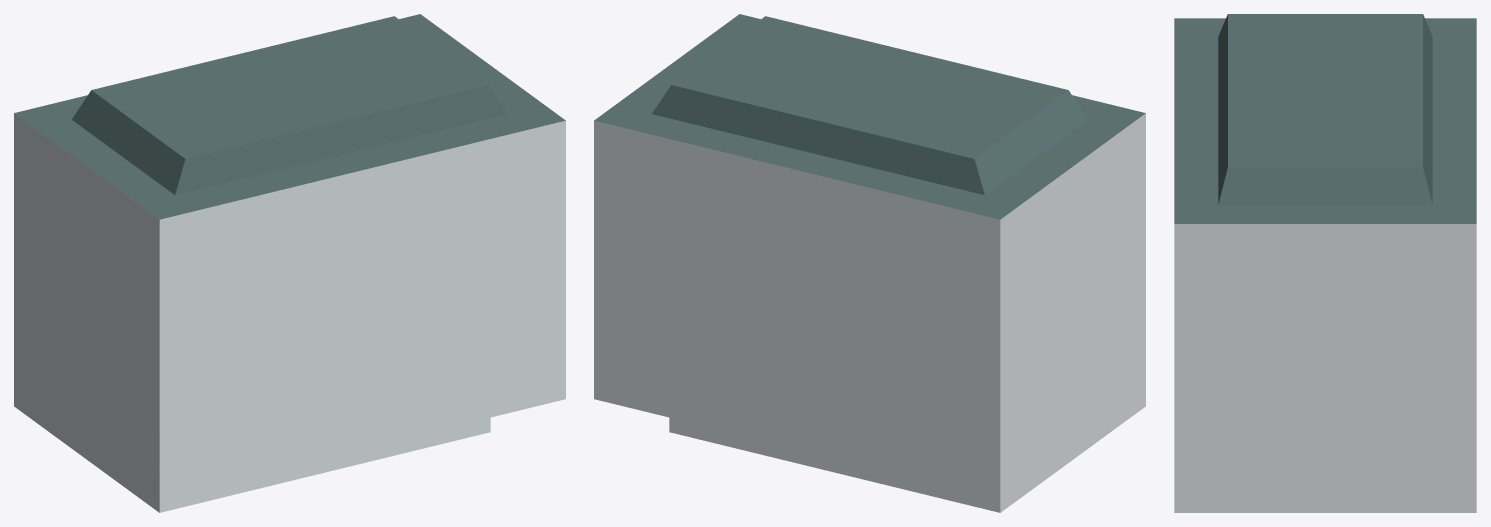
Rendered from microwave.obj.
3 renders of one model, left to right at view 1: azimuth 30°, elevation 25°; view 2: azimuth 150°, elevation 25°; view 3: azimuth 270°, elevation 25°, orthographic. The views are drawn at different scales.
Parts seen in each view (by area): view 1: microwave; view 2: microwave; view 3: microwave.
Part boxes in pixels (x1,y1,x2,y2): microwave: (14,14,565,512); microwave: (594,14,1145,512); microwave: (1174,14,1476,512).
Bounding box in the file's own units: 22.56 × 17.89 × 14.
